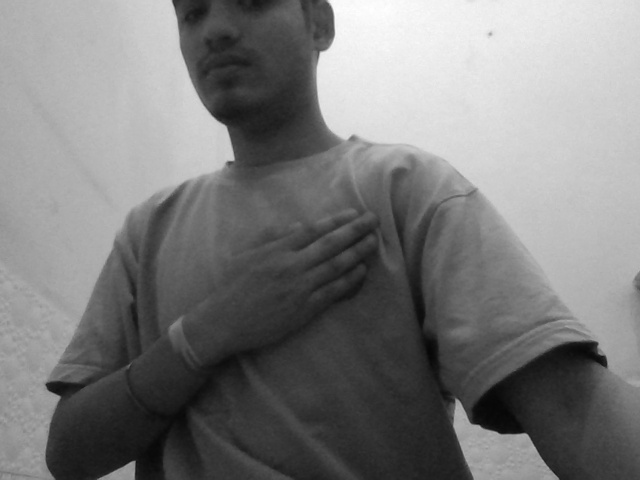Sorry: (165, 199, 420, 413)
